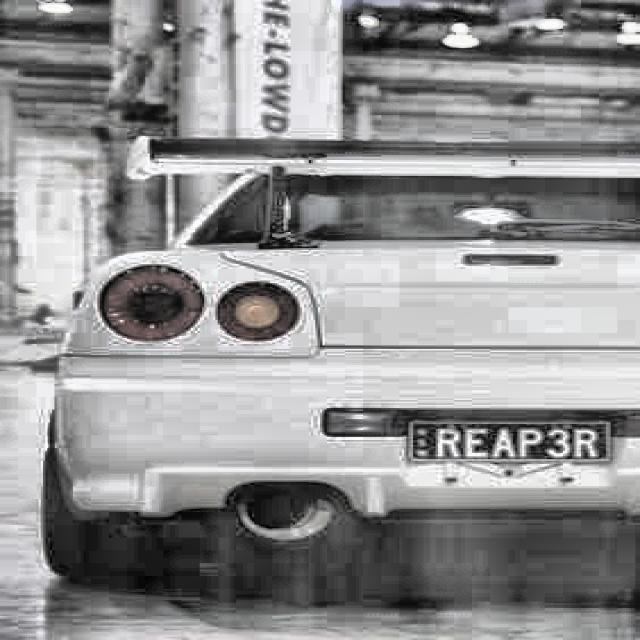license_plate: (408, 424, 606, 466)
